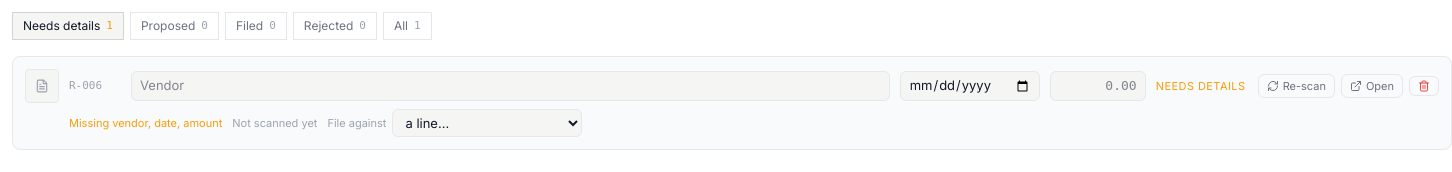
Test: RCP-19 — editing writes to the receipt, never to money › a non-numeric amount is refused before it reaches the server
Type "about eighty" into the field named "Amount" at (1098, 86), box [1050,71,1146,101]
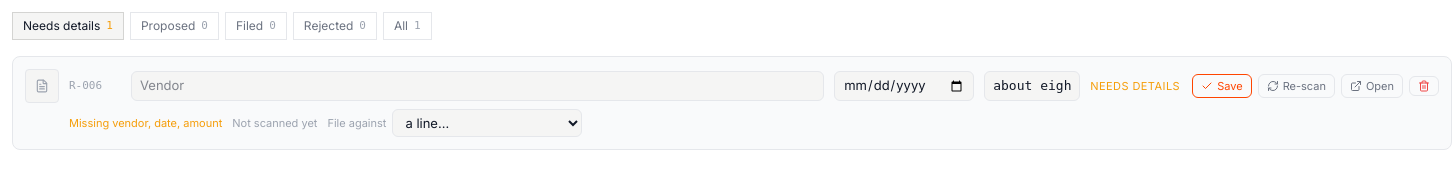
Click the button with test id "receipt-save" at (1222, 86), box [1192,74,1252,98]
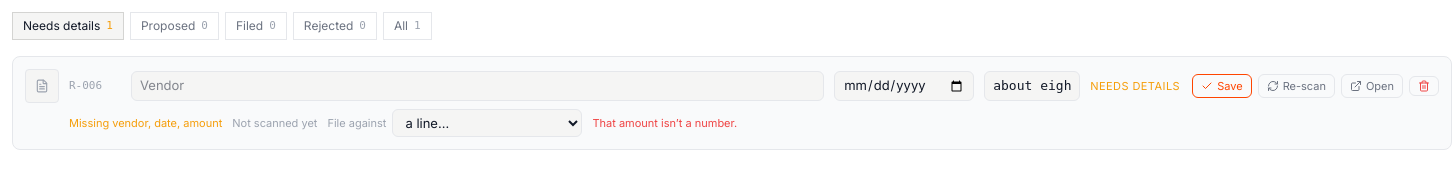
Result: the message shows "isn’t a number" at [592,116,737,130]
